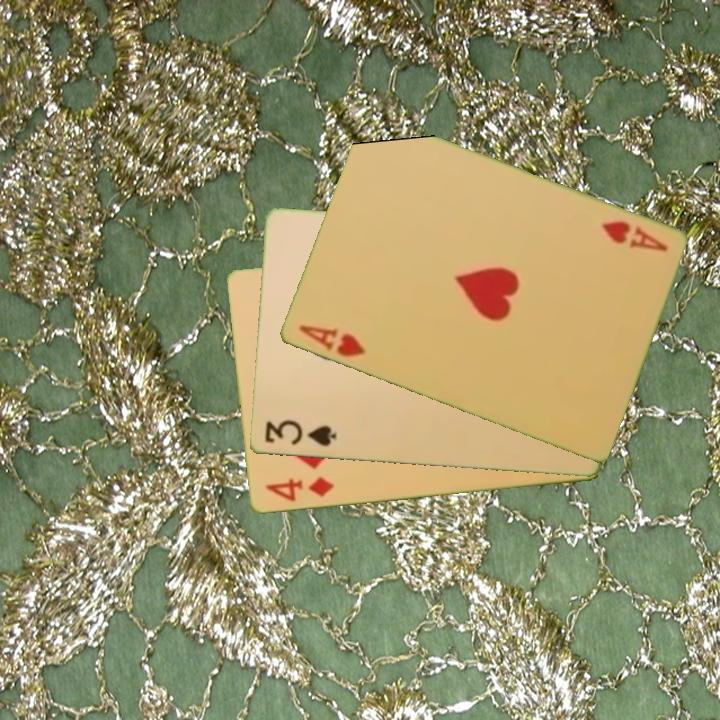3s: (261, 418, 339, 450)
4d: (262, 474, 336, 505)
Ah: (295, 321, 368, 360), (597, 217, 670, 255)
